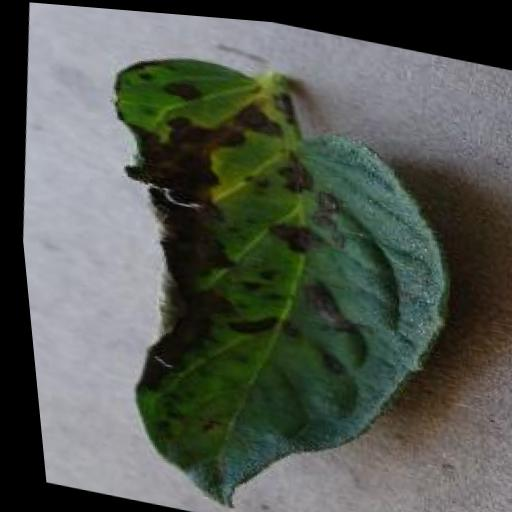Early Blight: (54, 33, 493, 512)
